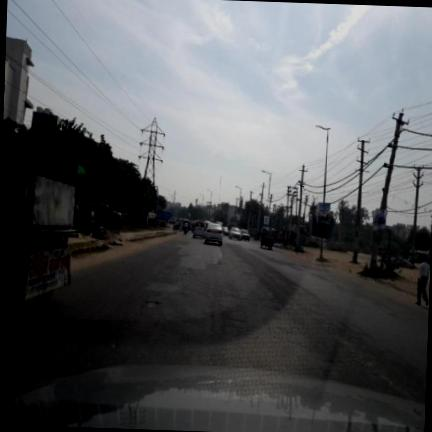Road: (0, 235, 428, 401)
